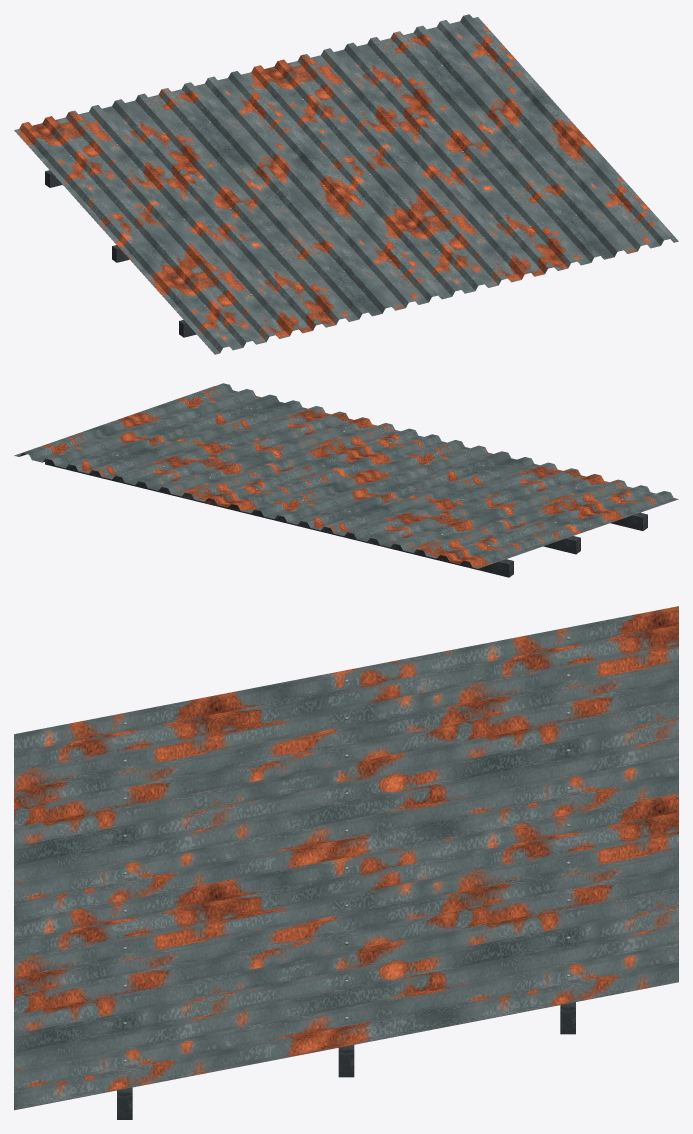
The model's file is ROOF_SHEET_4000x3000_RUST_LIGHT.glb.
3 renders of one model, top to bottom at view 1: azimuth 30°, elevation 25°; view 2: azimuth 150°, elevation 25°; view 3: azimuth 270°, elevation 25°, orthographic. The views are drawn at different scales.
Parts seen in each view (by area): view 1: ROOF_SHEET_4000x3000_RUST_LIGHT__Roof_Cladding_Corrugated, ROOF_SHEET_4000x3000_RUST_LIGHT__Roof_Purlins_3; view 2: ROOF_SHEET_4000x3000_RUST_LIGHT__Roof_Cladding_Corrugated, ROOF_SHEET_4000x3000_RUST_LIGHT__Roof_Purlins_3; view 3: ROOF_SHEET_4000x3000_RUST_LIGHT__Roof_Cladding_Corrugated, ROOF_SHEET_4000x3000_RUST_LIGHT__Roof_Purlins_3.
Part boxes in pixels (x1,y1,x2,y2): ROOF_SHEET_4000x3000_RUST_LIGHT__Roof_Cladding_Corrugated: (14, 14, 678, 354); ROOF_SHEET_4000x3000_RUST_LIGHT__Roof_Purlins_3: (45, 170, 196, 337); ROOF_SHEET_4000x3000_RUST_LIGHT__Roof_Cladding_Corrugated: (14, 383, 678, 568); ROOF_SHEET_4000x3000_RUST_LIGHT__Roof_Purlins_3: (45, 460, 647, 577); ROOF_SHEET_4000x3000_RUST_LIGHT__Roof_Cladding_Corrugated: (14, 606, 678, 1110); ROOF_SHEET_4000x3000_RUST_LIGHT__Roof_Purlins_3: (117, 1002, 575, 1119).
Size of the model in its own units: 4 by 0.7254 by 3.
3 materials, 3 textured.
